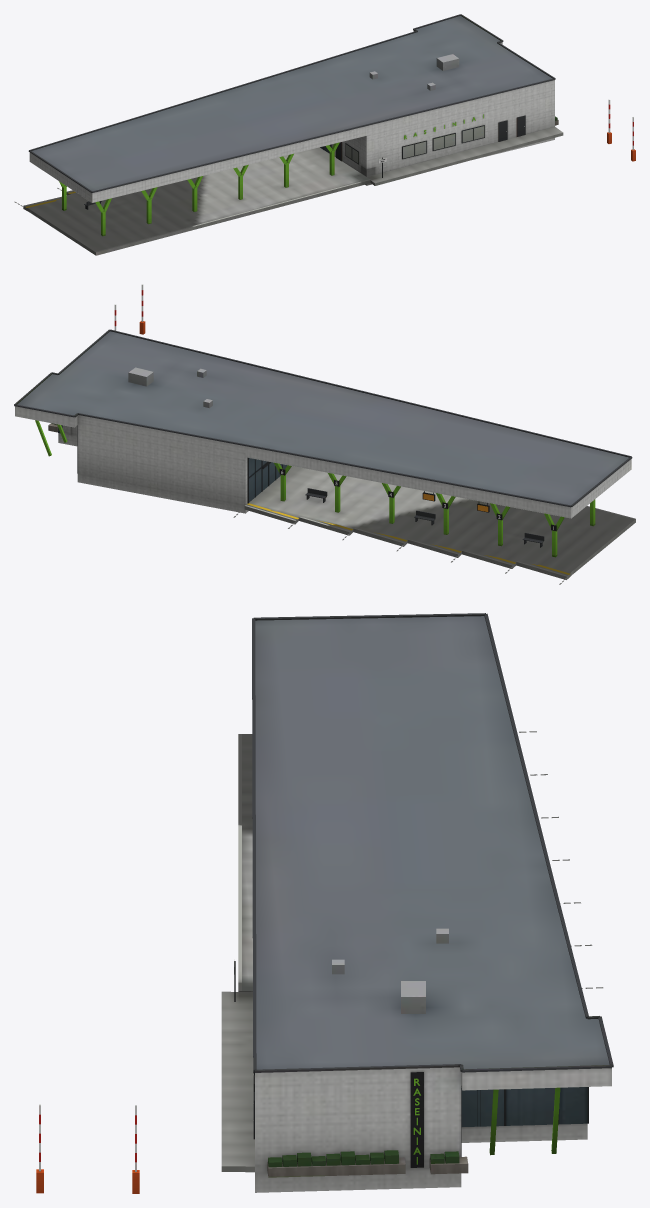
File: stotis.glb
3 renders of one model, top to bottom at view 1: azimuth 30°, elevation 25°; view 2: azimuth 150°, elevation 25°; view 3: azimuth 270°, elevation 25°, orthographic. The views are drawn at different scales.
Visible parts, largest first — view 1: building; view 2: building; view 3: building.
Part boxes in pixels (x1,y1,x2,y2): building: (14,14,635,255); building: (14,284,635,584); building: (36,613,613,1193).
Size of the model in its own units: 55.03 by 7.38 by 27.69.
Materials: 2 (2 with a texture image).
